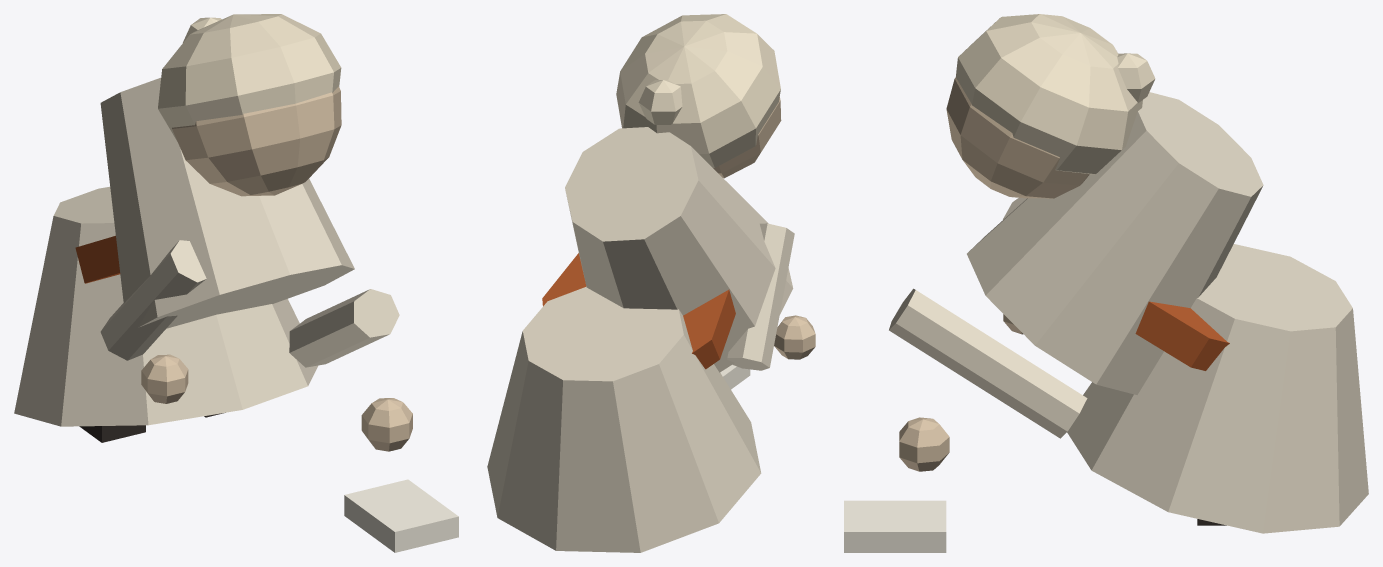
File: wiper.glb
3 views of the same model, side by side, from view 1: azimuth 30°, elevation 25°; view 2: azimuth 150°, elevation 25°; view 3: azimuth 270°, elevation 25° (orthographic). The views are drawn at different scales.
Parts seen in each view (by area): view 1: Cone, Cone.001, Sphere.003, Sphere.002, Cube.003, Cylinder.001, Cylinder.002, Sphere, Sphere.001, Cylinder, Cube; view 2: Cone, Cone.001, Sphere.003, Cylinder.002, Cylinder, Sphere.004, Sphere.001, Sphere.002, Cube.003; view 3: Cone, Cone.001, Sphere.003, Cylinder.001, Sphere.002, Cube.003, Cylinder, Sphere, Sphere.004.
Boxes of the visible parts, x1,y1,x2,y2 form: Cone: [14, 186, 318, 426]; Cone.001: [100, 77, 354, 328]; Sphere.003: [158, 14, 341, 141]; Sphere.002: [172, 86, 341, 196]; Cube.003: [344, 479, 458, 552]; Cylinder.001: [289, 289, 399, 367]; Cylinder.002: [100, 240, 206, 360]; Sphere: [361, 398, 412, 451]; Sphere.001: [141, 354, 188, 403]; Cylinder: [75, 235, 120, 283]; Cube: [79, 425, 145, 442]; Cone: [487, 286, 761, 552]; Cone.001: [565, 127, 793, 372]; Sphere.003: [616, 14, 780, 167]; Cylinder.002: [727, 223, 794, 370]; Cylinder: [542, 253, 735, 369]; Sphere.004: [638, 80, 682, 124]; Sphere.001: [774, 315, 815, 359]; Sphere.002: [713, 97, 781, 178]; Cube.003: [720, 364, 750, 389]; Cone: [1067, 244, 1368, 533]; Cone.001: [967, 92, 1263, 394]; Sphere.003: [956, 14, 1142, 174]; Cylinder.001: [889, 288, 1087, 438]; Sphere.002: [946, 77, 1089, 198]; Cube.003: [844, 500, 946, 552]; Cylinder: [1135, 301, 1229, 370]; Sphere: [899, 417, 949, 471]; Sphere.004: [1117, 53, 1155, 102].
Bounding box in the file's own units: 0.6467 × 1.13 × 1.13.
